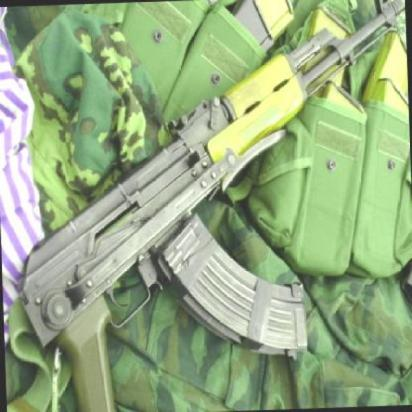Gun: (37, 6, 385, 382)
